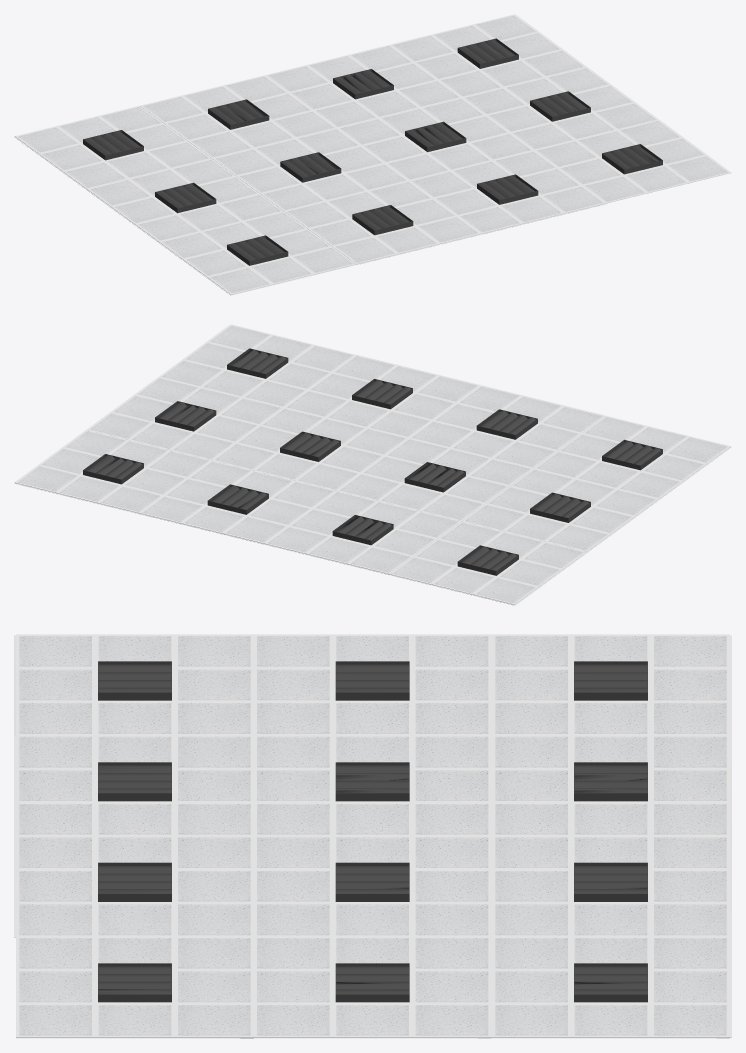
File: ceiling D.FBX
3 renders of one model, top to bottom at view 1: azimuth 30°, elevation 25°; view 2: azimuth 150°, elevation 25°; view 3: azimuth 270°, elevation 25°, orthographic. The views are drawn at different scales.
Visible parts, largest first — view 1: ceiling; view 2: ceiling; view 3: ceiling.
Part boxes in pixels (left/top/right/bottom): ceiling: left=14, top=14, right=731, bottom=295; ceiling: left=14, top=324, right=731, bottom=605; ceiling: left=14, top=634, right=731, bottom=1038.
Size of the model in its own units: 7171 by 5383 by 72.83.
